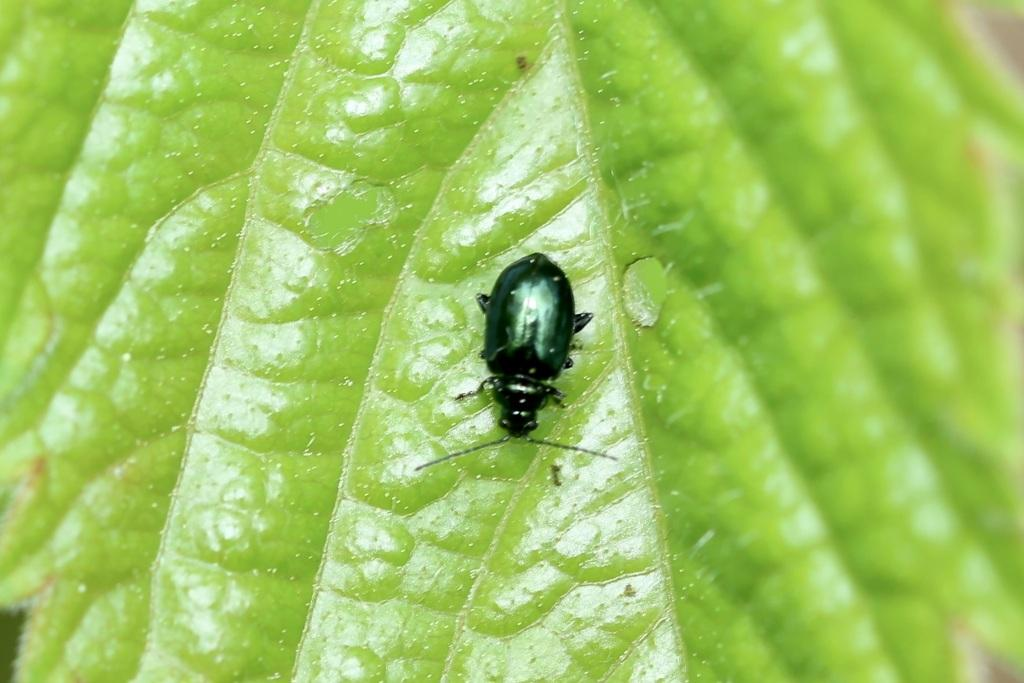flea_beetle: (374, 195, 664, 520)
